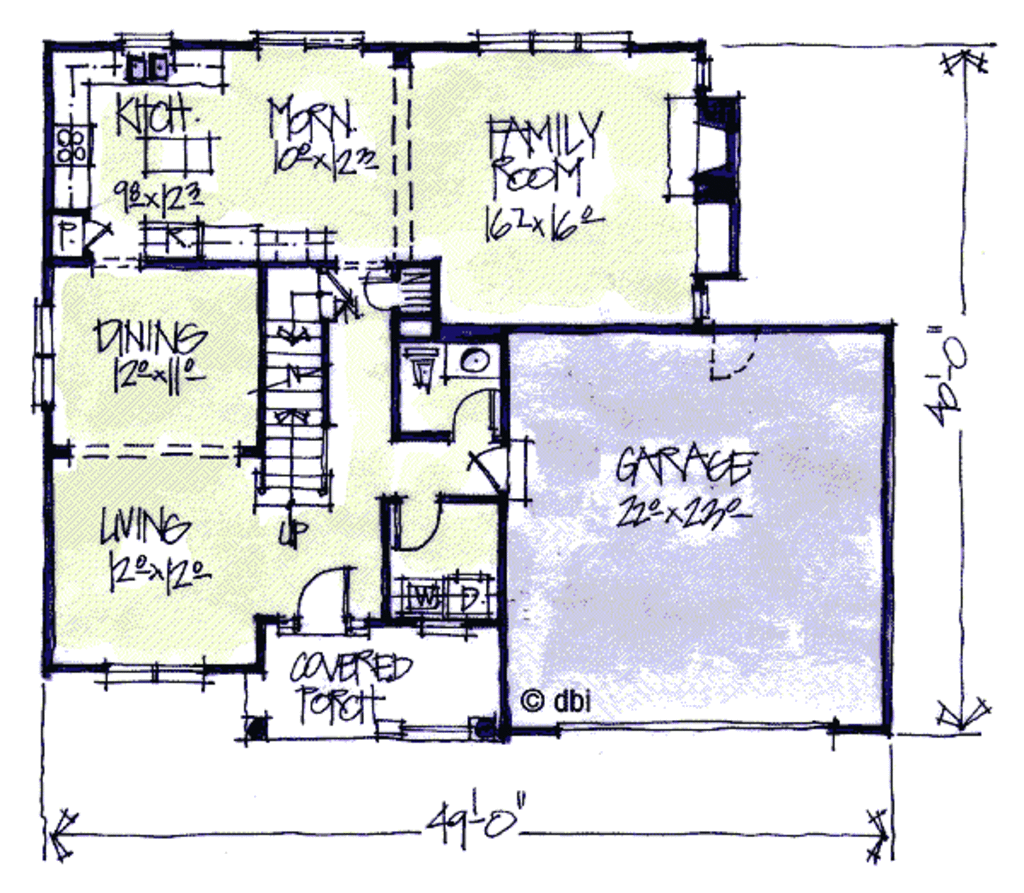door: (280, 562, 365, 637), (701, 322, 766, 384), (388, 490, 444, 554), (445, 387, 500, 439), (467, 435, 512, 491), (362, 272, 404, 314)
large_sink: (386, 346, 441, 389)
small_sink: (443, 345, 512, 376)
stairs: (247, 248, 345, 516)
twin_sink: (119, 51, 184, 82)
window: (466, 26, 631, 55), (93, 660, 215, 690), (252, 30, 374, 53)
